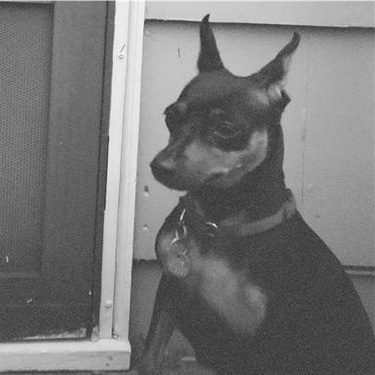dog: (132, 5, 370, 373)
